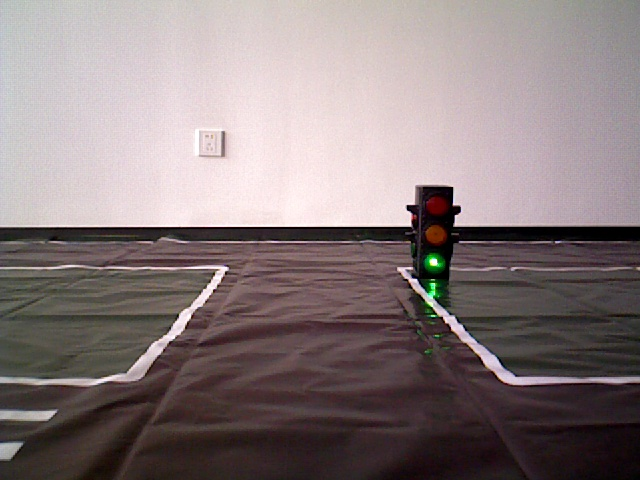green: (413, 188, 451, 271)
